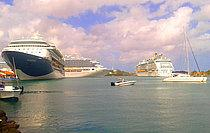Ship: (2, 31, 71, 83), (132, 53, 179, 81)
